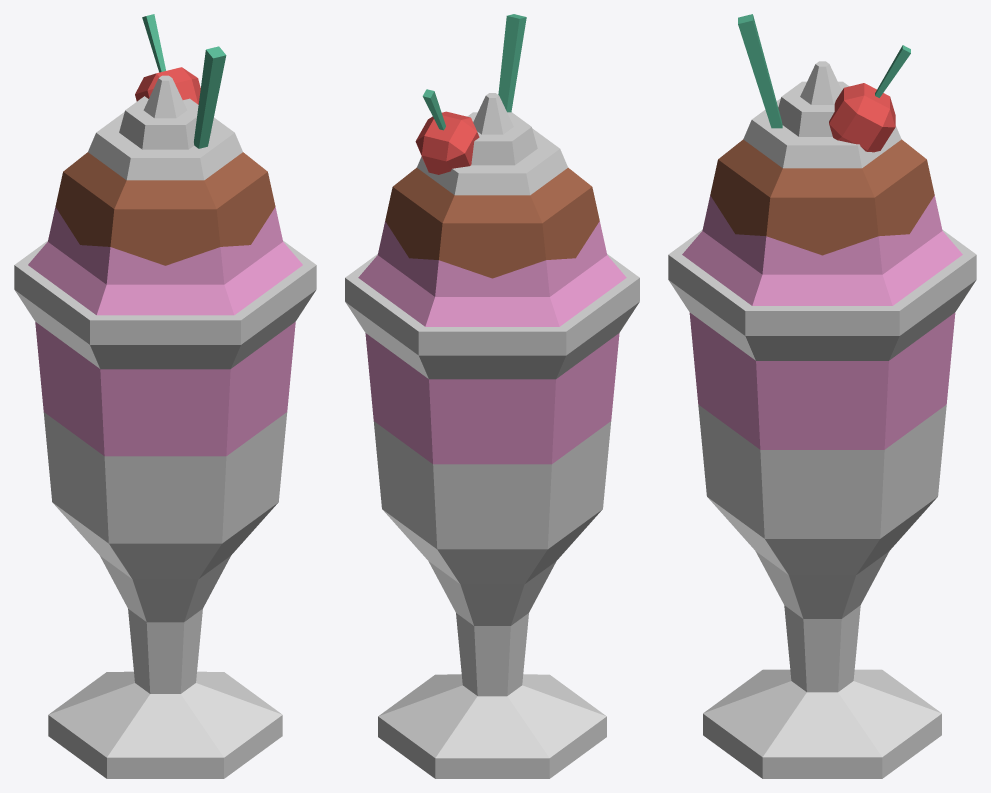
Rendered from sundae.fbx.
The picture shows the model from 3 angles, left to right: view 1: azimuth 30°, elevation 25°; view 2: azimuth 150°, elevation 25°; view 3: azimuth 270°, elevation 25°; orthographic projection. The views are drawn at different scales.
Parts seen in each view (by area): view 1: sundae, straw, cherry; view 2: sundae, cherry, straw; view 3: sundae, cherry, straw.
Part boxes in pixels (<box>): sundae: <box>14,75,316,778</box>; straw: <box>194,46,226,148</box>; cherry: <box>135,14,200,104</box>; sundae: <box>345,93,639,778</box>; cherry: <box>415,89,479,174</box>; straw: <box>498,14,526,112</box>; sundae: <box>668,61,976,778</box>; cherry: <box>829,45,910,152</box>; straw: <box>738,14,782,128</box>.
Bounding box in the file's own units: 2.23 × 6.68 × 2.58.
